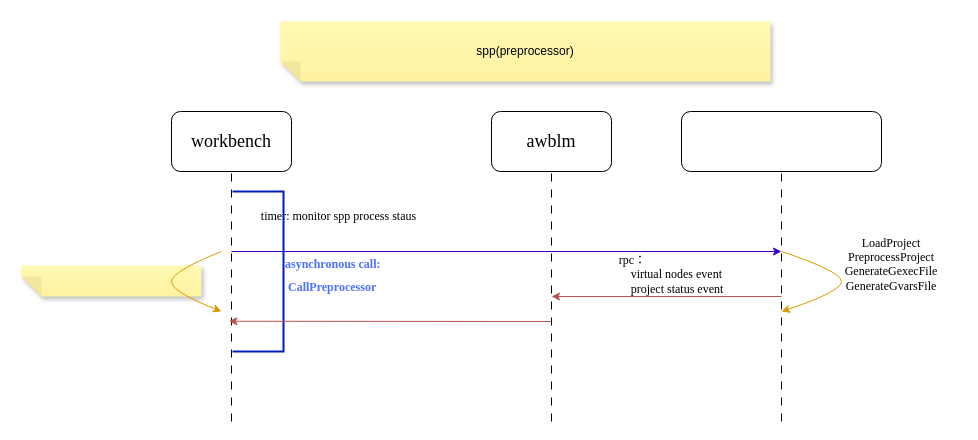
This 978x440 diagram has some shape labels left out. The centre of each missing label's shape, as x and y in pixels:
app(amedac preprocessor): the point at 781,141
show doe: load gvars file: the point at 112,282
